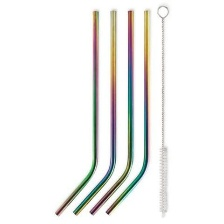drinking_straw: (49, 7, 102, 219), (103, 6, 155, 219)
